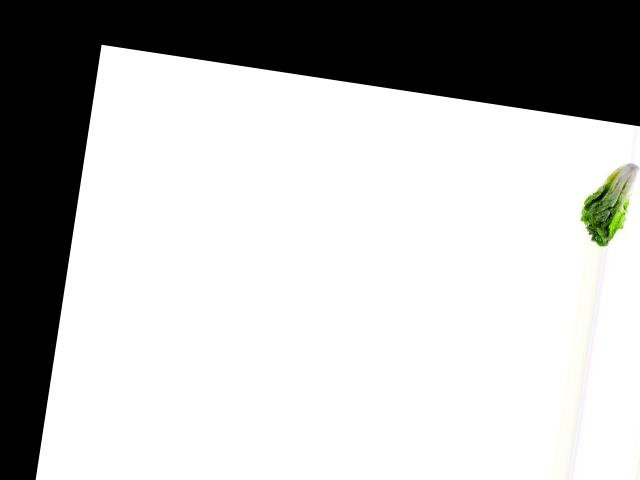lettuce: (632, 167, 640, 256)
